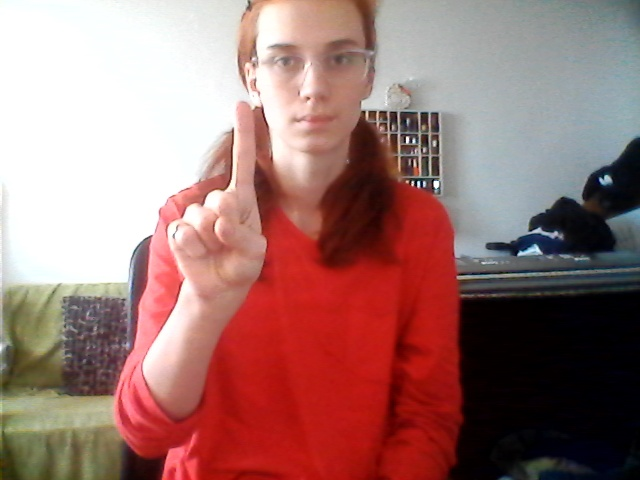i: (159, 97, 284, 303)
